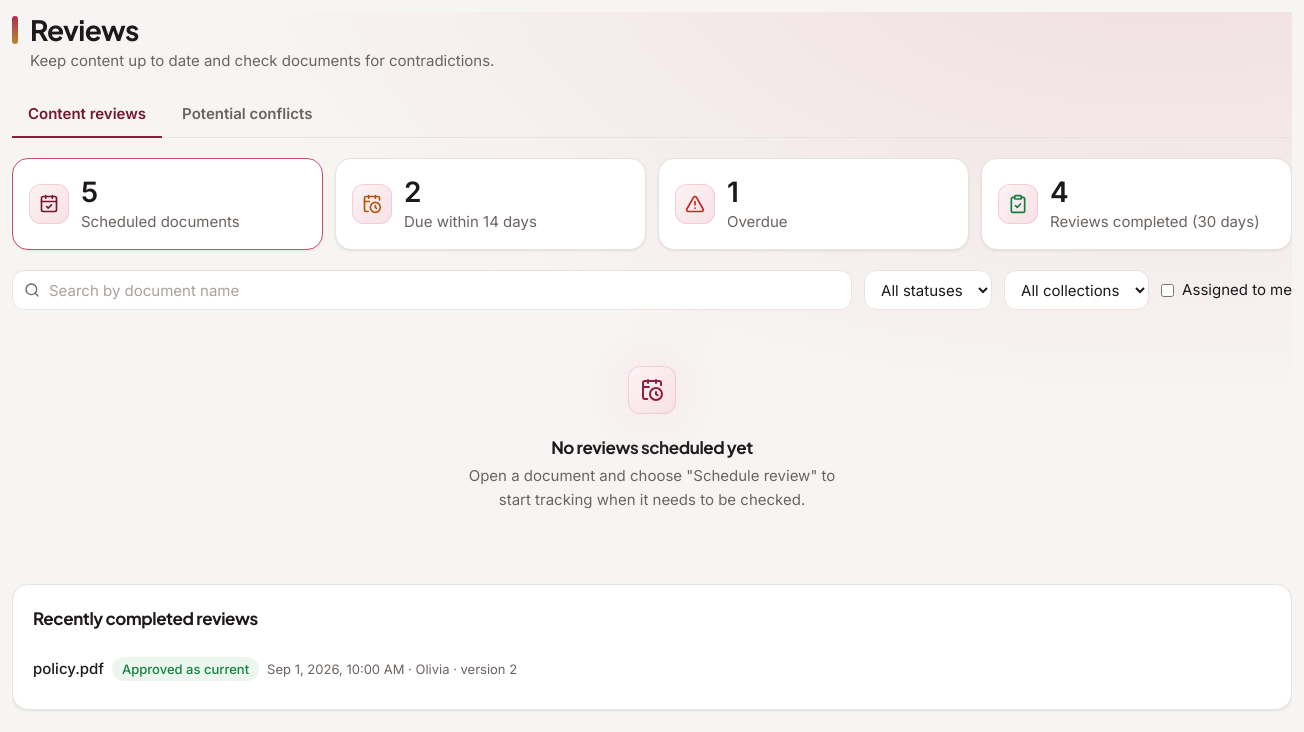
Scenario: Review Center › has empty and error states
Expected: the heading "No reviews scheduled yet" is shown, left=551, top=434, right=753, bottom=460
Select "Due" in the 1st dropdown named "Status" at point(928, 290), box left=864, top=270, right=992, bottom=310
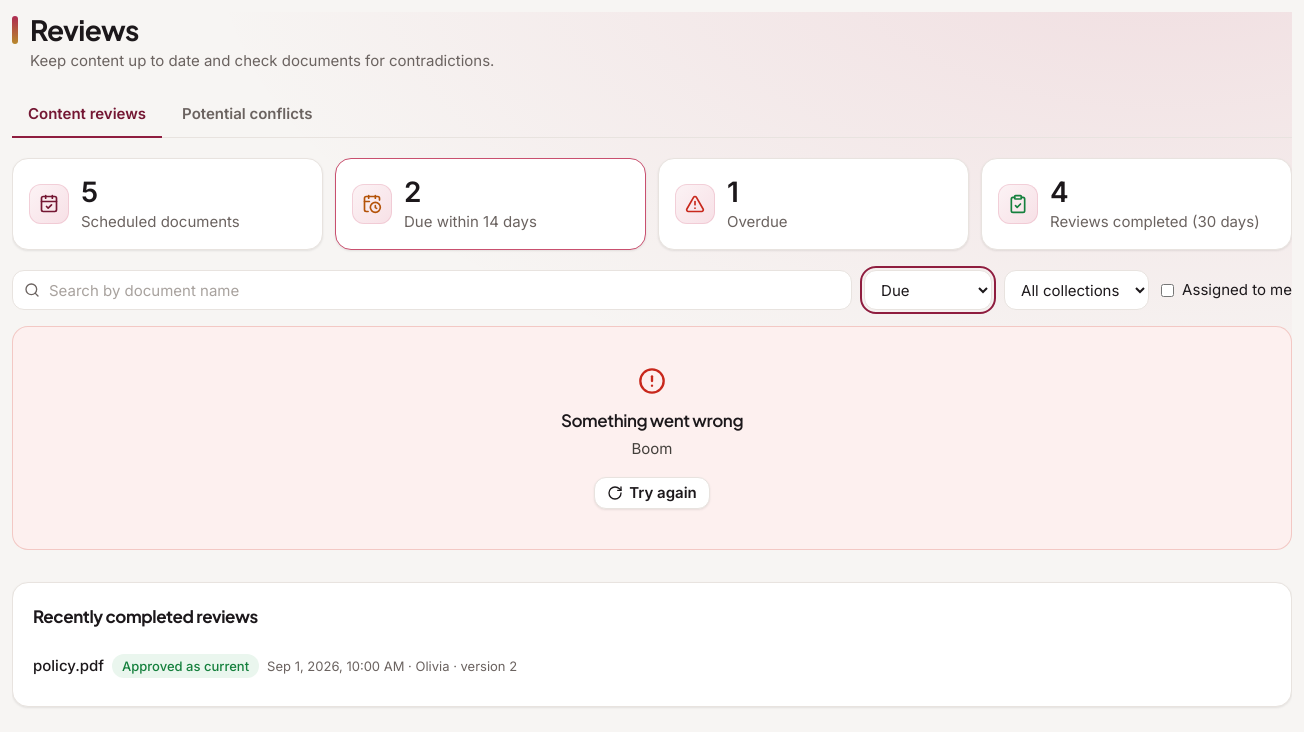
Expected: the text "Boom" is shown, left=632, top=437, right=672, bottom=461
